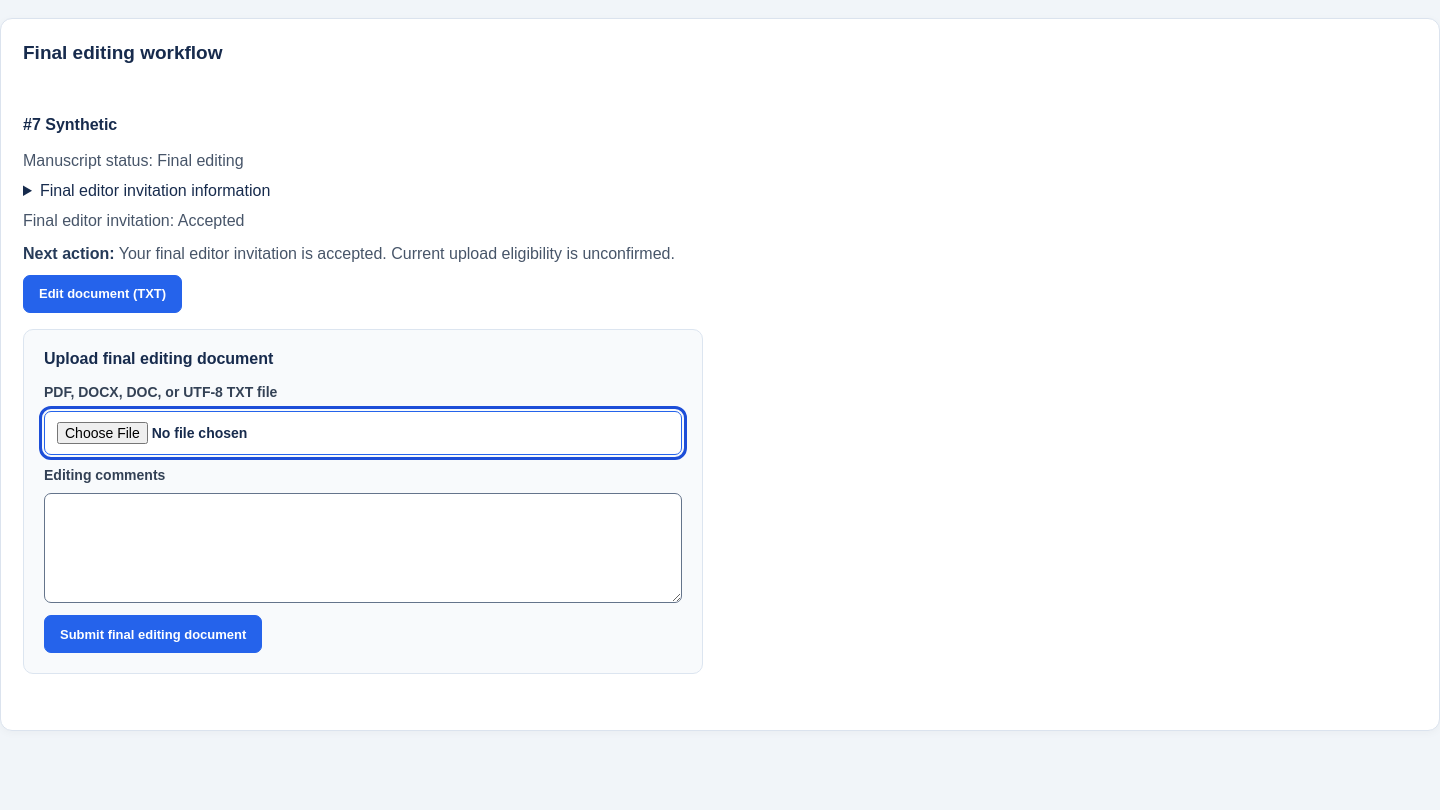
offers TXT final-edit uploads and sends the selected synthetic file
This screenshot has width=1440, height=810.
Earlier steps of the test are not shown.
Later steps or results of the test are not shown.
In the text box labelled "Editing comments": (363, 548) [44,493,682,603], type "Edited"
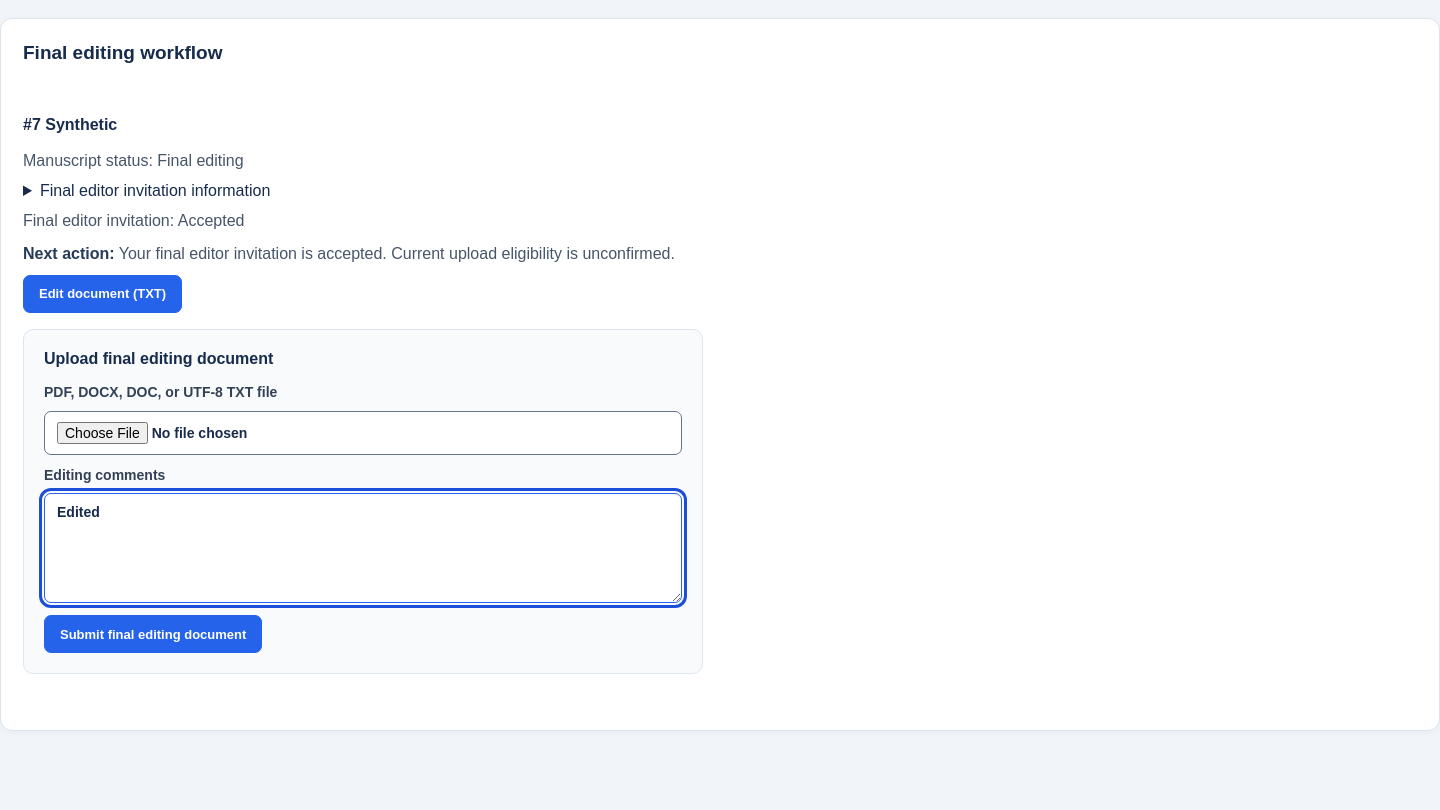
Submit the form named "Submit final editing document", box [23,329,703,674]
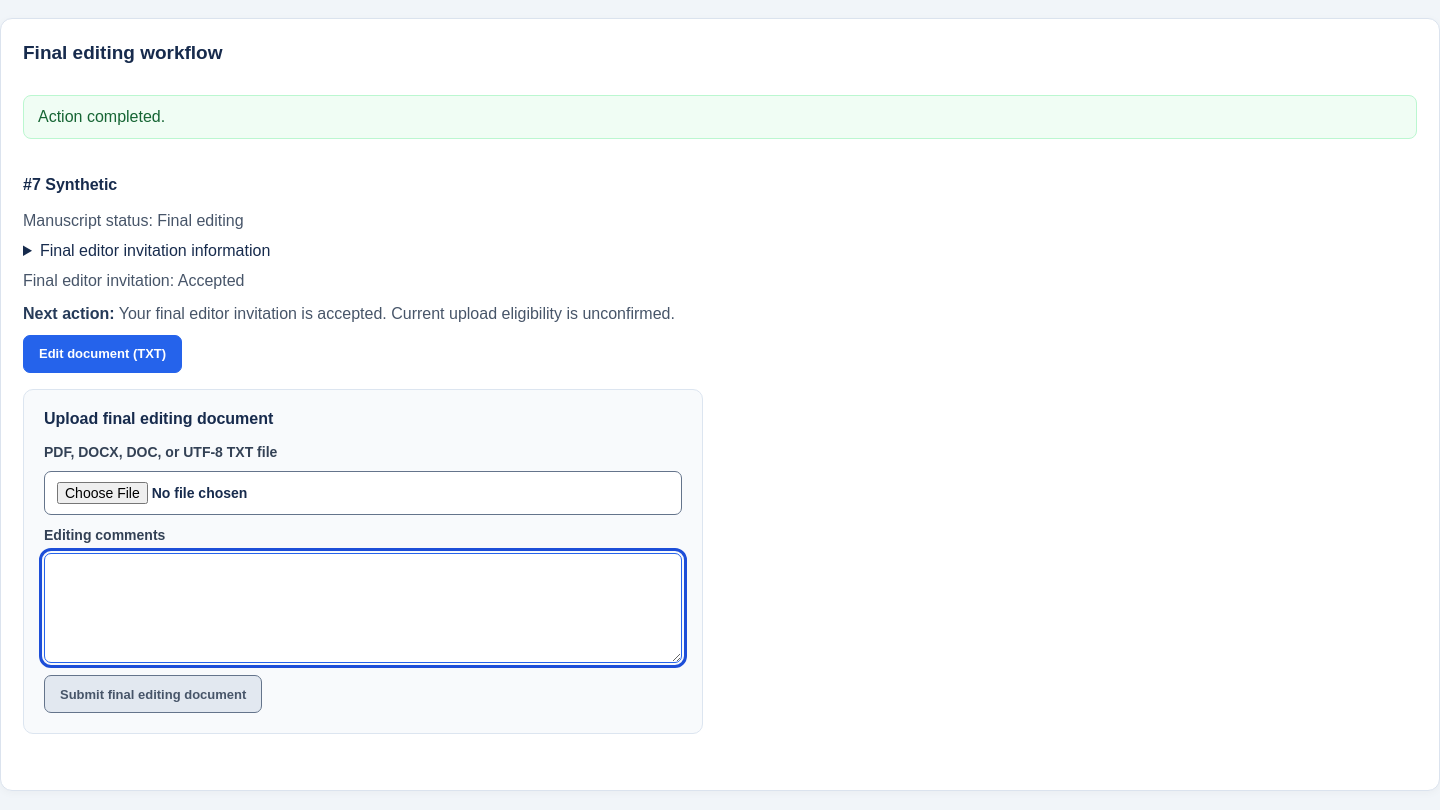
Check: the message reads "Action completed.", box [38,108,165,125]
